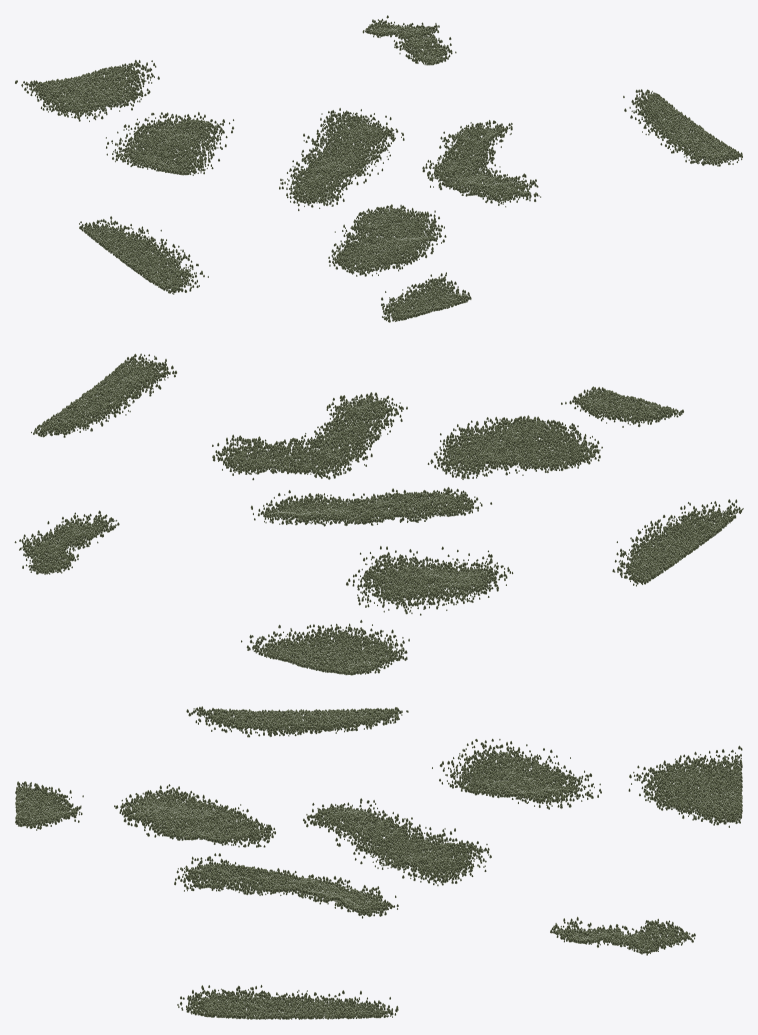
The model's file is trees.glb.
3 renders of one model, top to bottom at view 1: azimuth 30°, elevation 25°; view 2: azimuth 150°, elevation 25°; view 3: azimuth 270°, elevation 25°, orthographic. The views are drawn at different scales.
Visible parts, largest first — view 1: Landscape.002; view 2: Landscape.002; view 3: Landscape.002.
Boxes of the visible parts, x1,y1,x2,y2 form: Landscape.002: (15,15,742,322); Landscape.002: (14,353,743,675); Landscape.002: (15,706,742,1019).
Size of the model in its own units: 1049 by 44.43 by 1049.
1 material, 1 textured.
